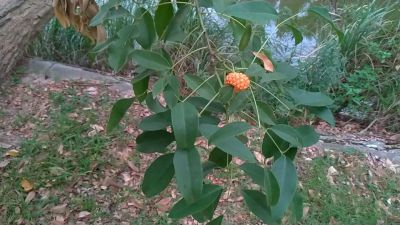eggs: (222, 67, 249, 92)
